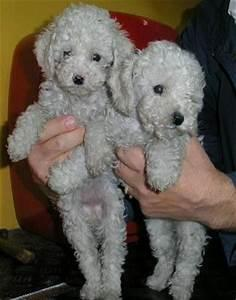dog: (5, 3, 135, 293), (82, 37, 218, 300)
